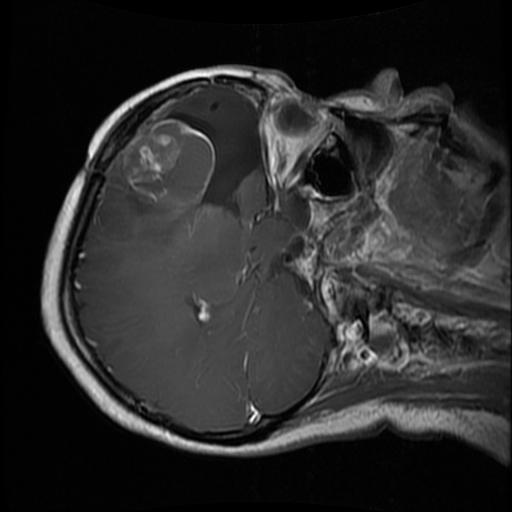glioma: (121, 86, 263, 228)
